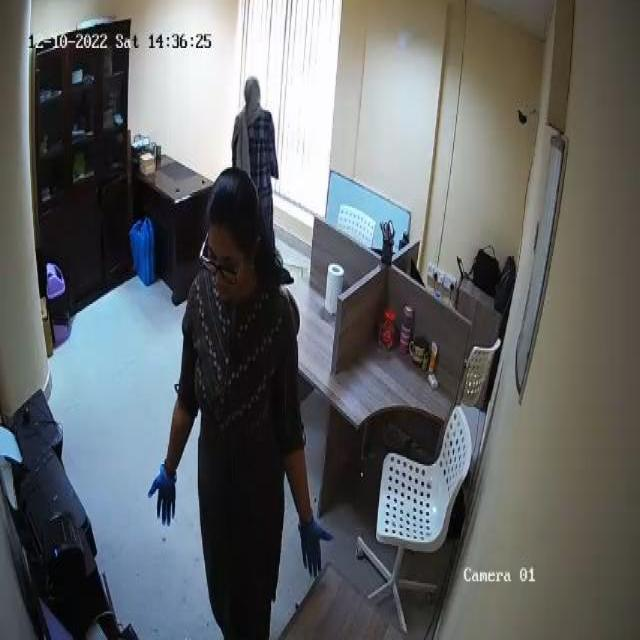gloved_hand: (296, 517, 335, 578), (147, 469, 181, 528)
